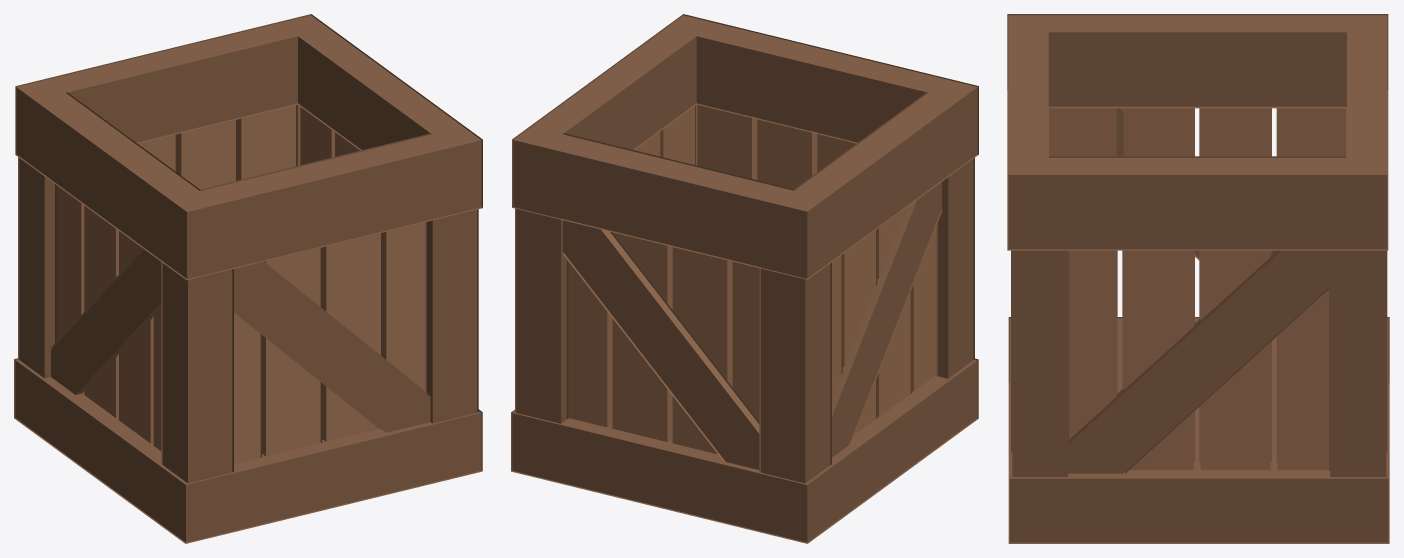
File: Medieval_Box.glb
The picture shows the model from 3 angles, left to right: view 1: azimuth 30°, elevation 25°; view 2: azimuth 150°, elevation 25°; view 3: azimuth 270°, elevation 25°; orthographic projection. The views are drawn at different scales.
Visible parts, largest first — view 1: Cube, Cube.001; view 2: Cube, Cube.001; view 3: Cube, Cube.001.
Part boxes in pixels (x1,y1,x2,y2): Cube: (15,15,481,542); Cube.001: (14,14,482,543); Cube: (512,15,977,542); Cube.001: (511,14,978,543); Cube: (1008,15,1388,542); Cube.001: (1007,14,1389,543).
Size of the model in its own units: 2.01 by 2.15 by 2.02.
Materials: 1 (1 with a texture image).
